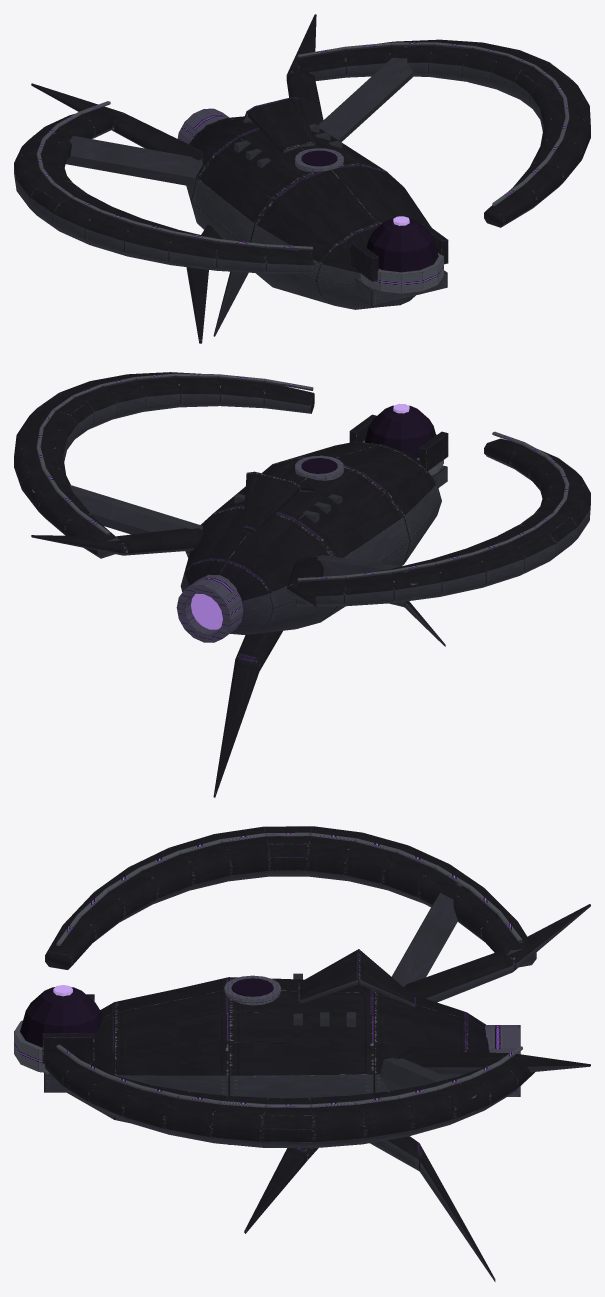
The model's file is pioneer-eris-l10-shield.glb.
The picture shows the model from 3 angles, top to bottom: view 1: azimuth 30°, elevation 25°; view 2: azimuth 150°, elevation 25°; view 3: azimuth 270°, elevation 25°; orthographic projection. The views are drawn at different scales.
Visible parts, largest first — view 1: Drone; view 2: Drone; view 3: Drone.
Boxes of the visible parts, x1,y1,x2,y2 form: Drone: [14, 14, 590, 343]; Drone: [14, 372, 590, 797]; Drone: [14, 826, 590, 1281].
Bounding box in the file's own units: 1.85 × 0.9361 × 1.52.
3 materials, 3 textured.
